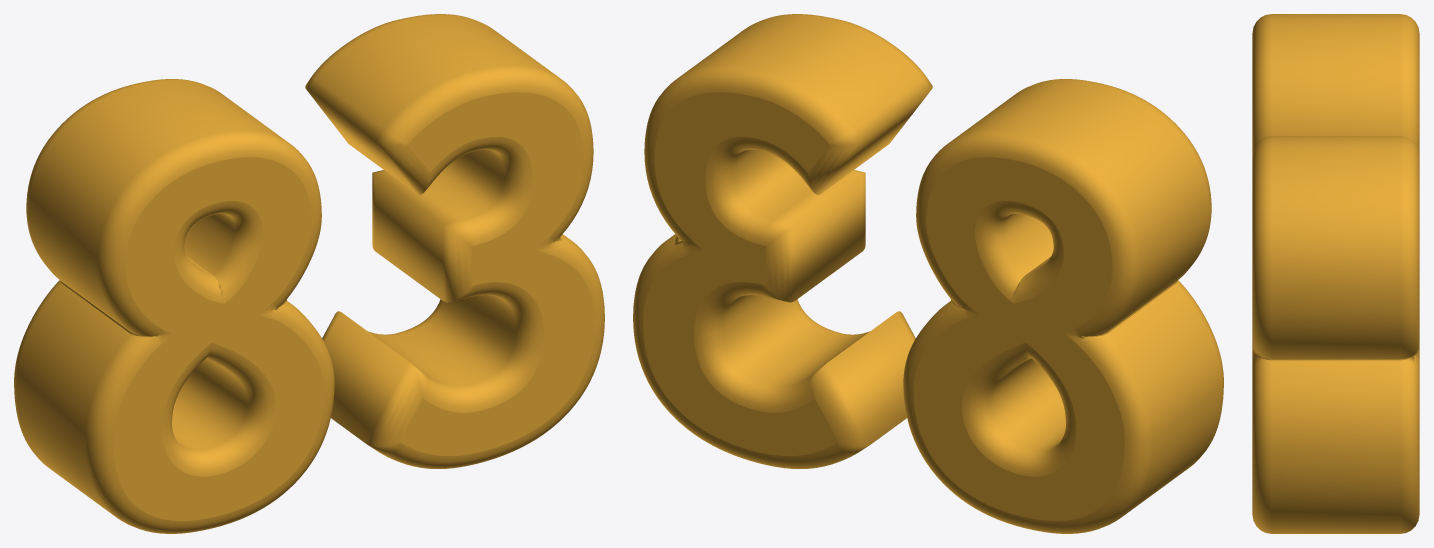
The picture shows the model from 3 angles, left to right: view 1: azimuth 30°, elevation 25°; view 2: azimuth 150°, elevation 25°; view 3: azimuth 270°, elevation 25°; orthographic projection. The views are drawn at different scales.
Parts seen in each view (by area): view 1: Text; view 2: Text; view 3: Text.
Part boxes in pixels (left/top/right/bottom): Text: left=14, top=14, right=604, bottom=533; Text: left=633, top=14, right=1223, bottom=533; Text: left=1252, top=14, right=1419, bottom=533.
Bounding box in the file's own units: 87.05 × 63.02 × 26.
